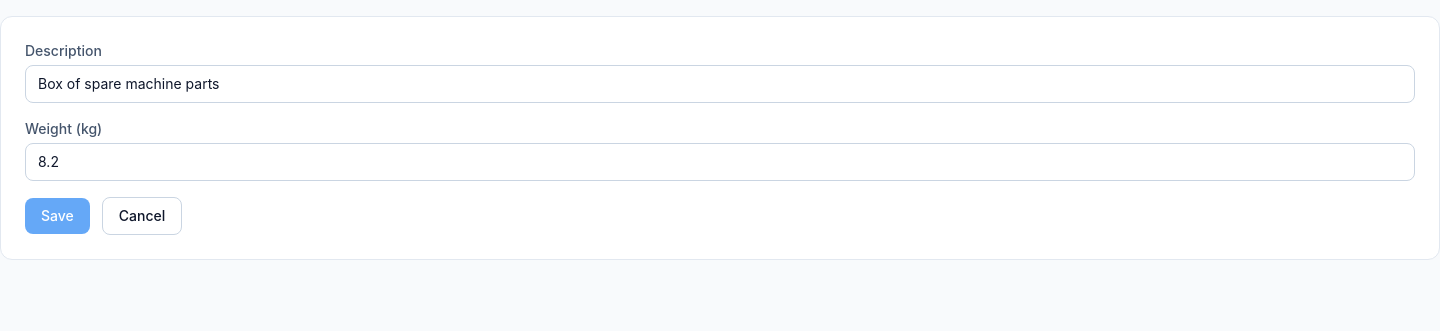
Test: EditShipmentForm › shows the service message and keeps the values on a 500
The width and height of the screenshot is (1440, 331).
Type "!" into the field labelled "Description" at (720, 84), box [25,65,1415,103]
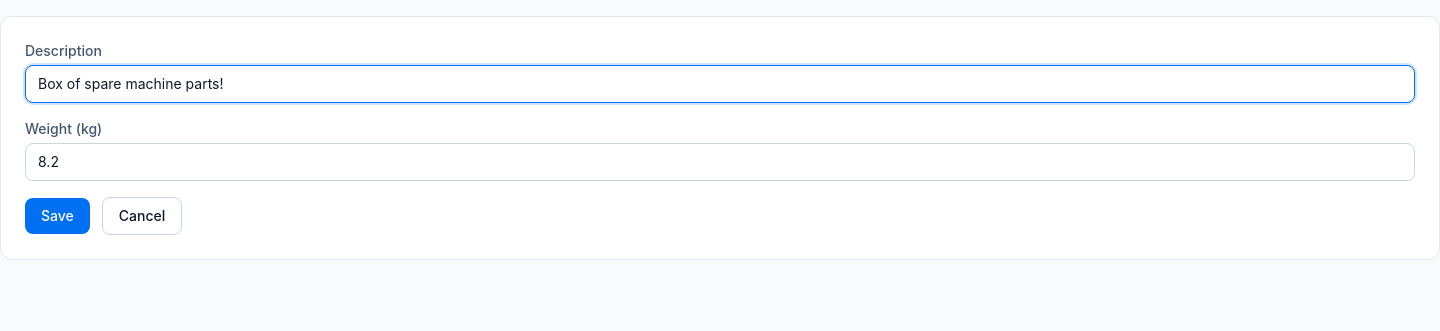
Click the button "Save" at (57, 216), box [25,198,90,234]
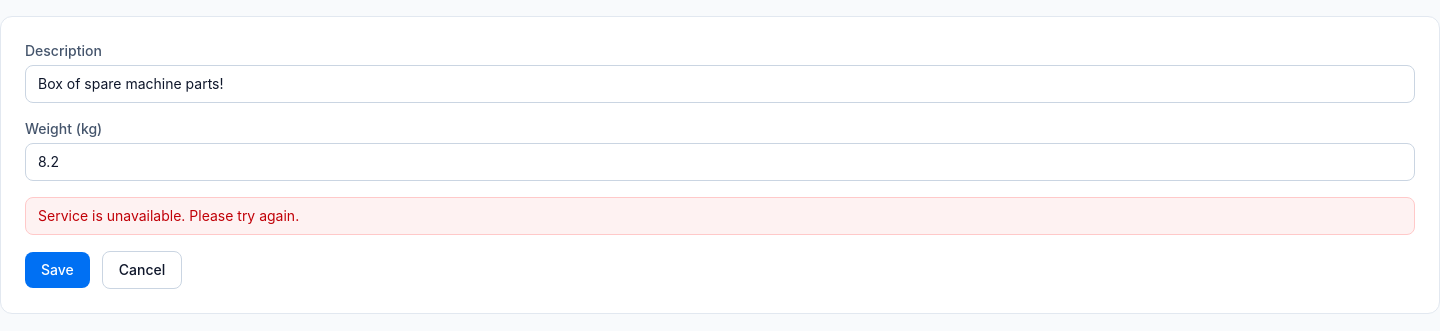
Expected: the field labelled "Description" holds "Box of spare machine parts!", [25,65,1415,103]
Expected: the message reads "Service is unavailable. Please try again.", [38,207,299,224]
